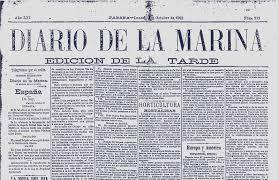Printing industry: (1, 6, 279, 180)
